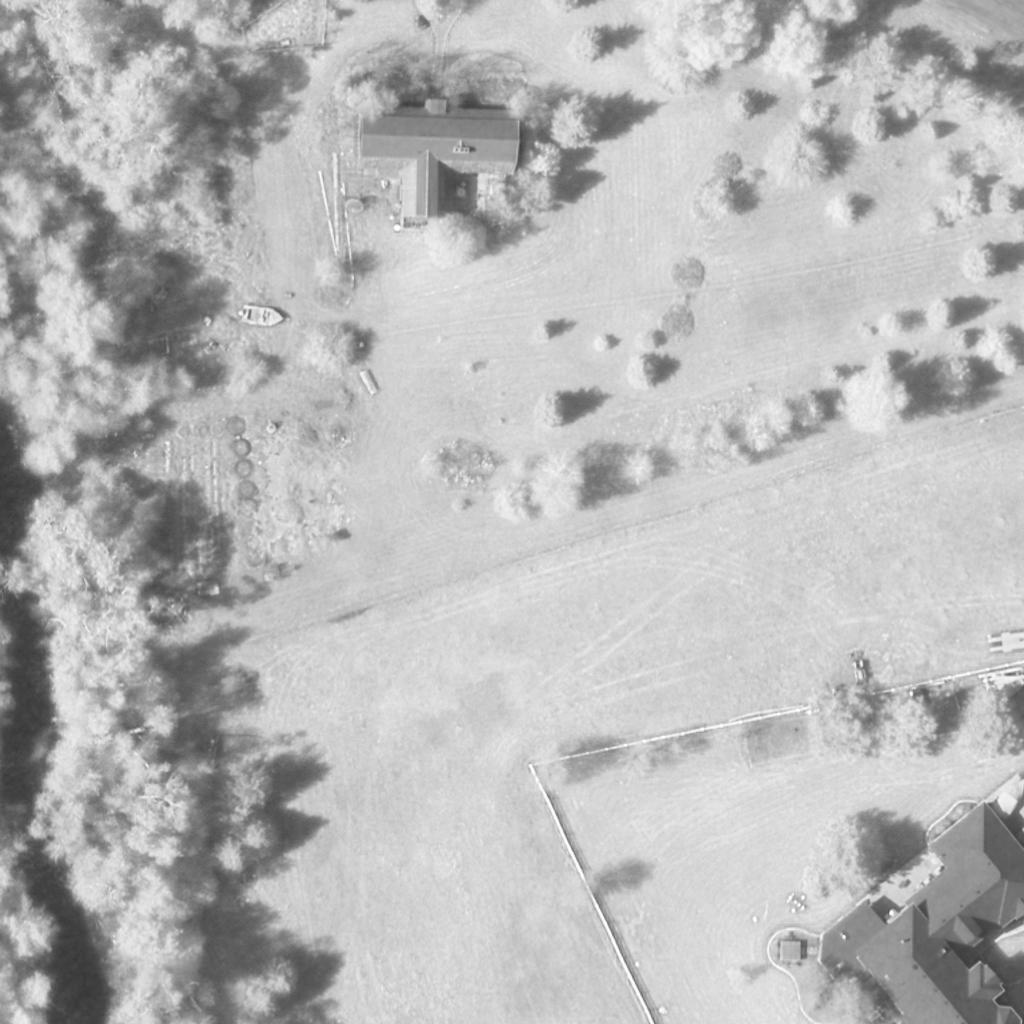vehicle: (237, 305, 289, 327), (849, 652, 873, 684)
